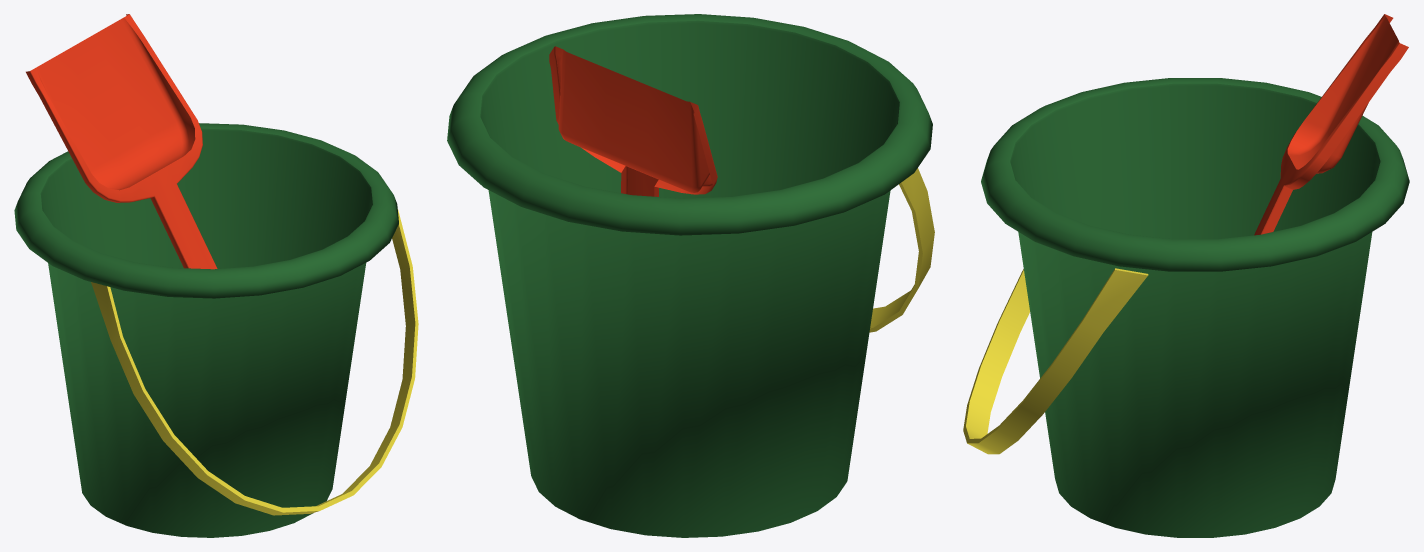
Rendered from secchiello2_LODs.fbx.
3 views of the same model, side by side, from view 1: azimuth 30°, elevation 25°; view 2: azimuth 150°, elevation 25°; view 3: azimuth 270°, elevation 25° (orthographic). The views are drawn at different scales.
Visible parts, largest first — view 1: secchiello_LOD0; view 2: secchiello_LOD0; view 3: secchiello_LOD0.
Part boxes in pixels (x1,y1,x2,y2): secchiello_LOD0: [14, 14, 418, 537]; secchiello_LOD0: [447, 14, 934, 537]; secchiello_LOD0: [963, 14, 1409, 537].
Size of what is drawn, in the model's own units: 37.69 by 43.37 by 39.53.
